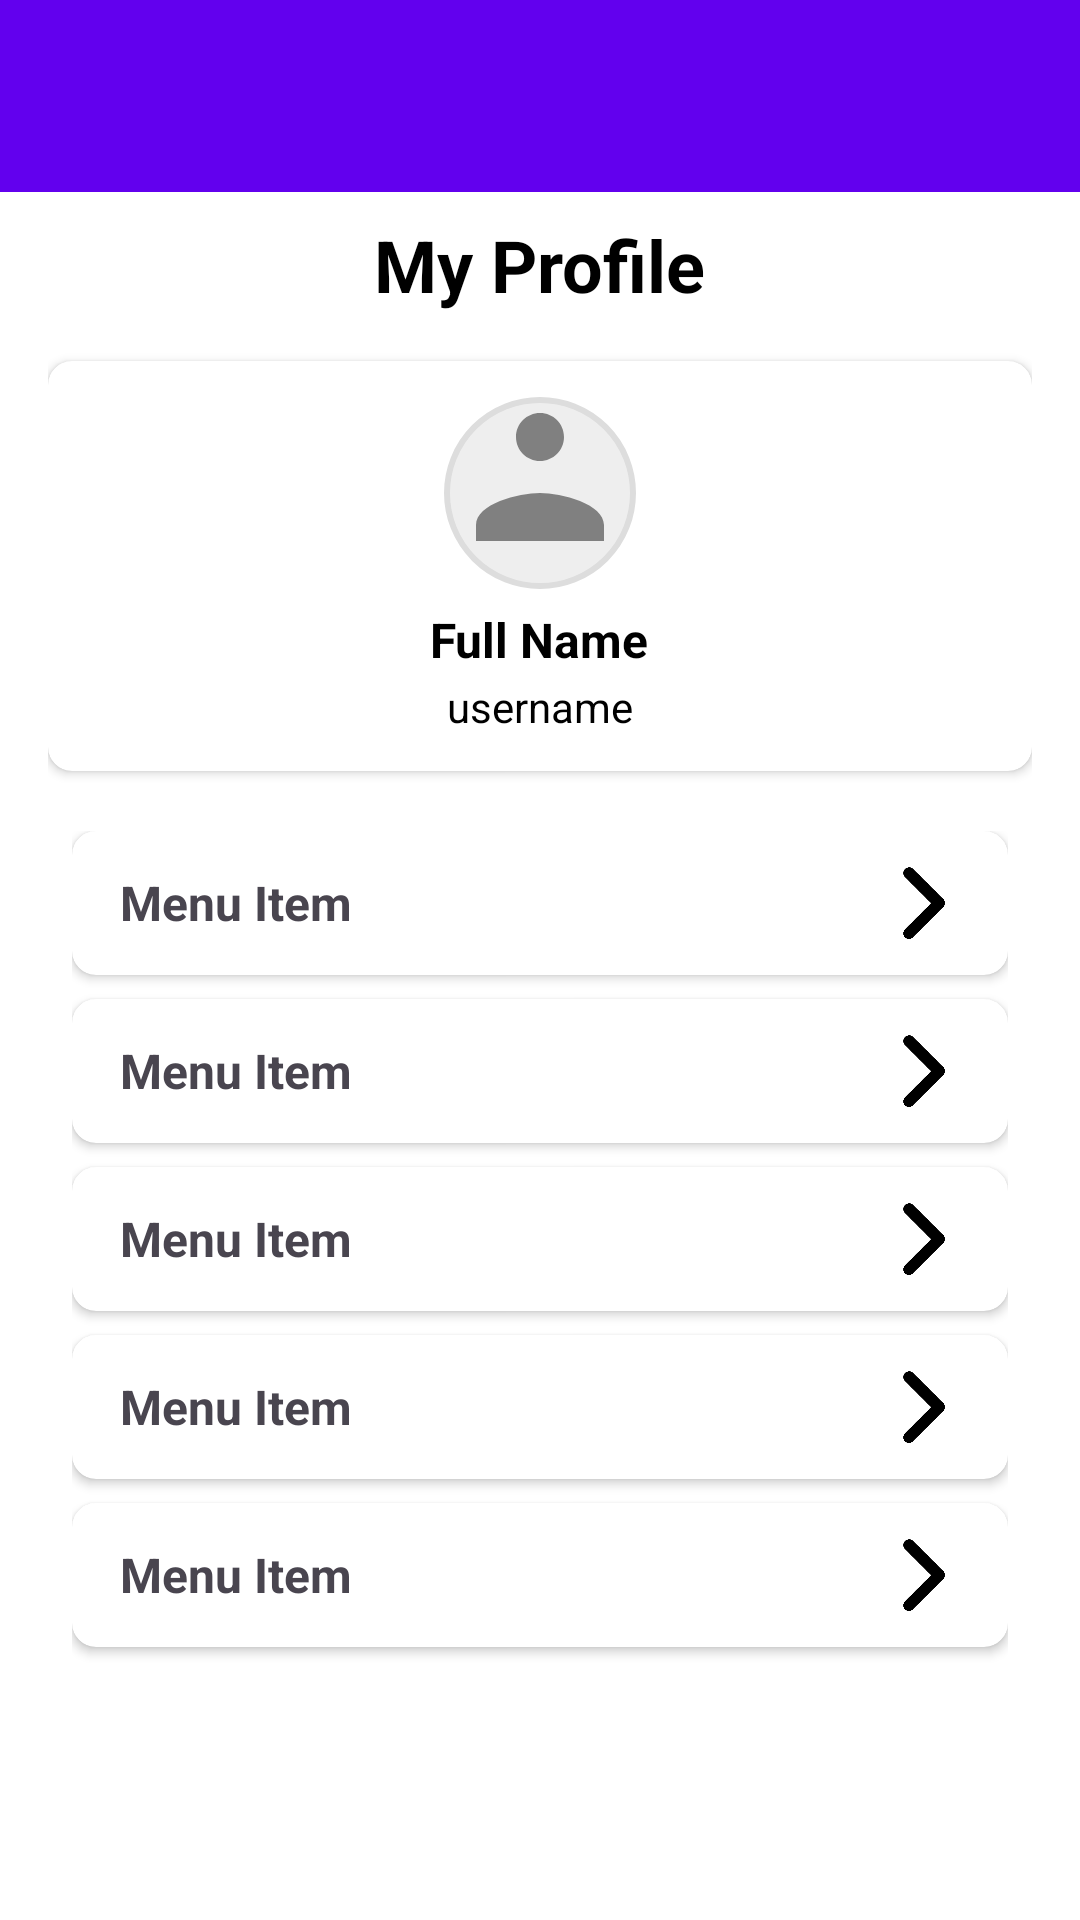

Point at icon controls on the screen. Image size 1080 x 1920, points as [x,y].
chevron right: [924,903], [924,1071], [924,1239], [924,1407], [924,1575]
